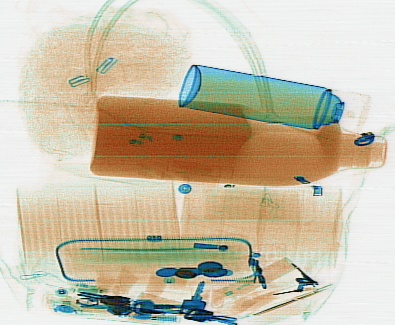pressure: (176, 63, 369, 133)
